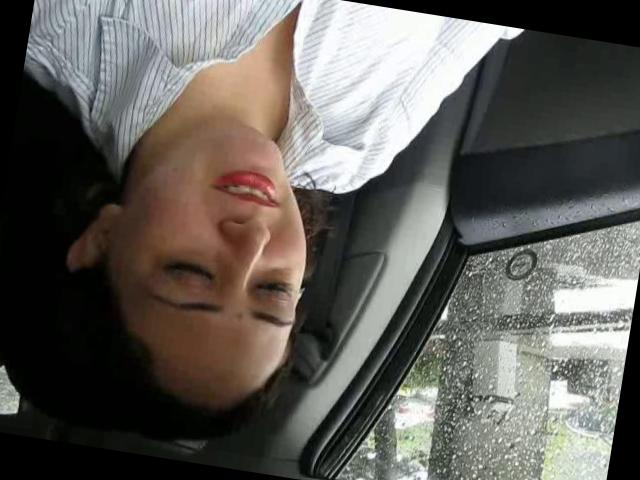eye_closed: (148, 243, 224, 296), (251, 270, 300, 306)
face: (108, 99, 334, 382)
